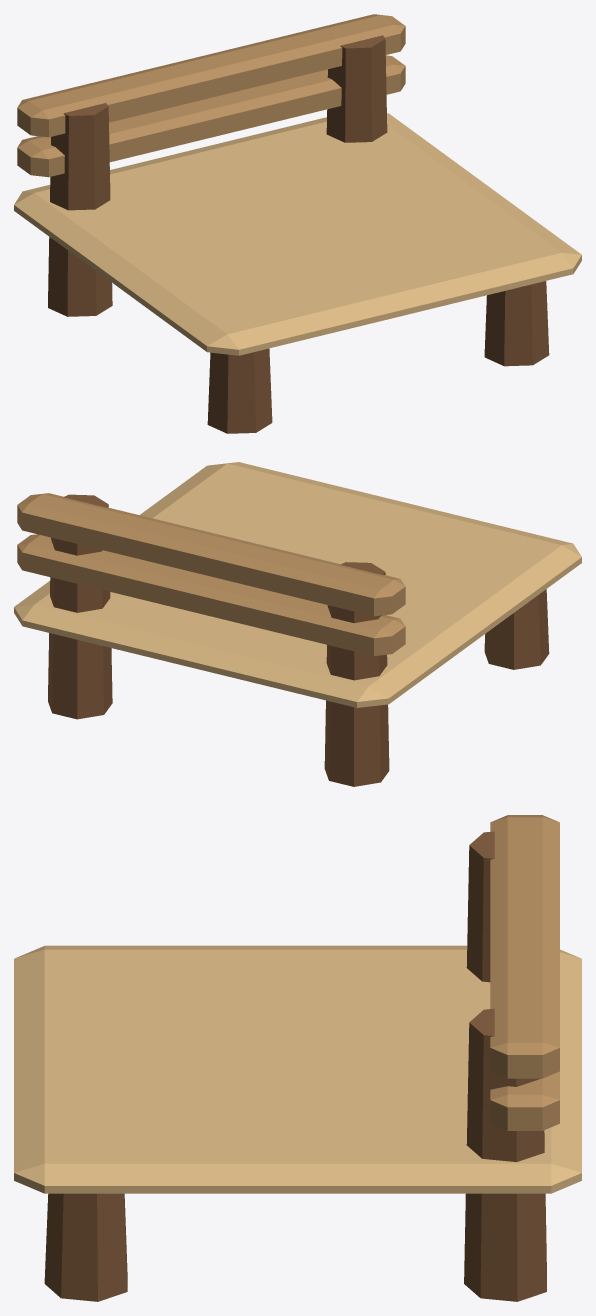
The model's file is CC_Chair.fbx.
3 renders of one model, top to bottom at view 1: azimuth 30°, elevation 25°; view 2: azimuth 150°, elevation 25°; view 3: azimuth 270°, elevation 25°, orthographic. The views are drawn at different scales.
Visible parts, largest first — view 1: Seat, Backrest.001, Backrest, Leg.045, Leg.047, Leg.044, Leg.046; view 2: Seat, Backrest.001, Backrest, Leg.045, Leg.047, Leg.044; view 3: Seat, Backrest.001, Leg.047, Leg.046, Leg.045, Backrest.
Part boxes in pixels (left/top/right/bottom): Seat: left=14, top=113, right=581, bottom=355; Backrest.001: left=17, top=14, right=405, bottom=137; Backrest: left=17, top=55, right=405, bottom=177; Leg.045: left=48, top=103, right=112, bottom=316; Leg.047: left=326, top=35, right=387, bottom=142; Leg.044: left=207, top=348, right=272, bottom=433; Leg.046: left=484, top=281, right=549, bottom=366; Seat: left=14, top=462, right=581, bottom=707; Backrest.001: left=17, top=493, right=405, bottom=616; Backrest: left=17, top=534, right=405, bottom=656; Leg.045: left=324, top=562, right=389, bottom=786; Leg.047: left=48, top=494, right=112, bottom=719; Leg.044: left=484, top=589, right=549, bottom=669; Seat: left=14, top=945, right=581, bottom=1193; Backrest.001: left=490, top=815, right=559, bottom=1078; Leg.047: left=464, top=1008, right=546, bottom=1301; Leg.046: left=44, top=1193, right=127, bottom=1301; Leg.045: left=466, top=831, right=494, bottom=982; Backrest: left=490, top=1071, right=559, bottom=1130.
Size of the model in its own units: 1.56 by 0.8043 by 1.56.
